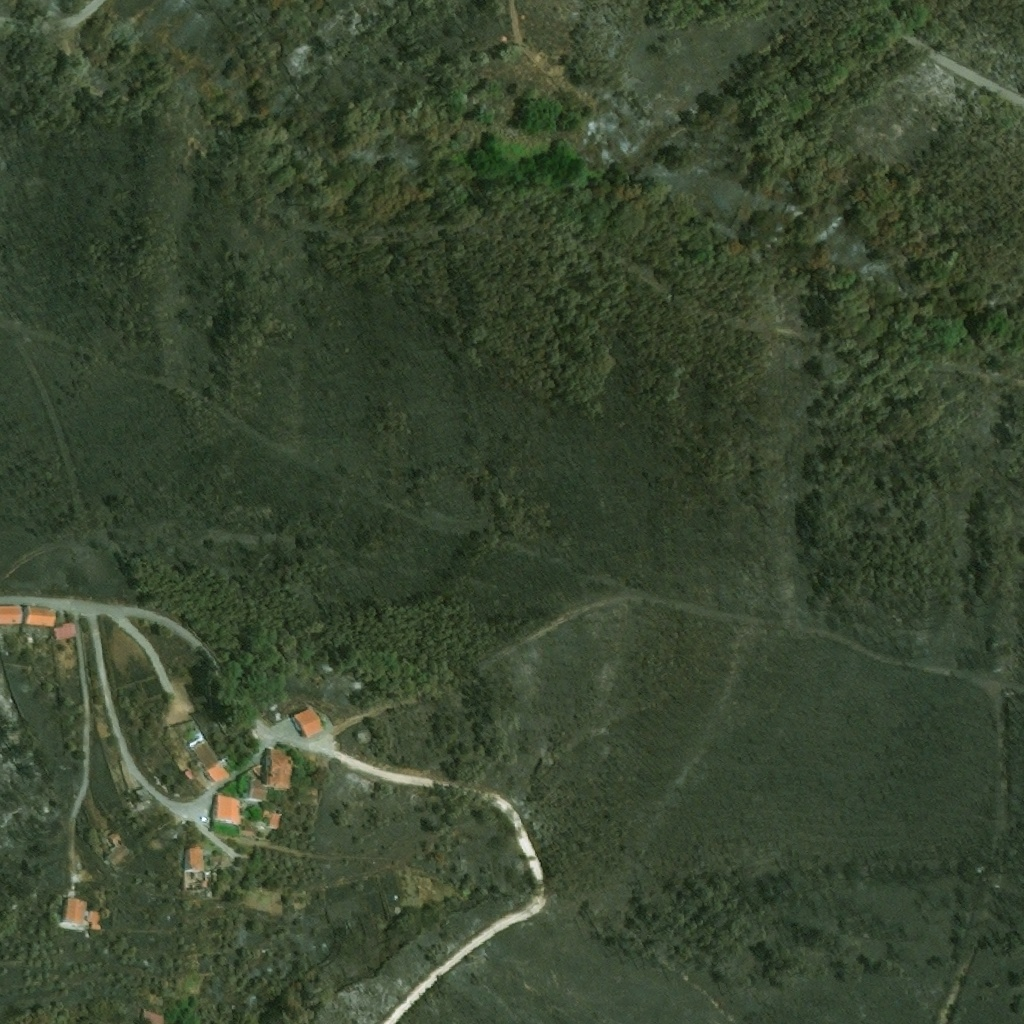0 no-damage: (194, 741, 233, 781), (263, 745, 297, 788), (108, 831, 137, 871), (293, 706, 327, 738), (185, 847, 209, 891), (215, 793, 246, 823), (178, 720, 208, 750), (26, 606, 57, 626), (64, 898, 90, 921), (264, 804, 284, 829), (250, 776, 270, 799), (0, 606, 24, 625), (56, 623, 78, 641), (141, 1009, 166, 1023), (90, 909, 102, 930), (185, 768, 196, 778), (27, 638, 36, 644)
